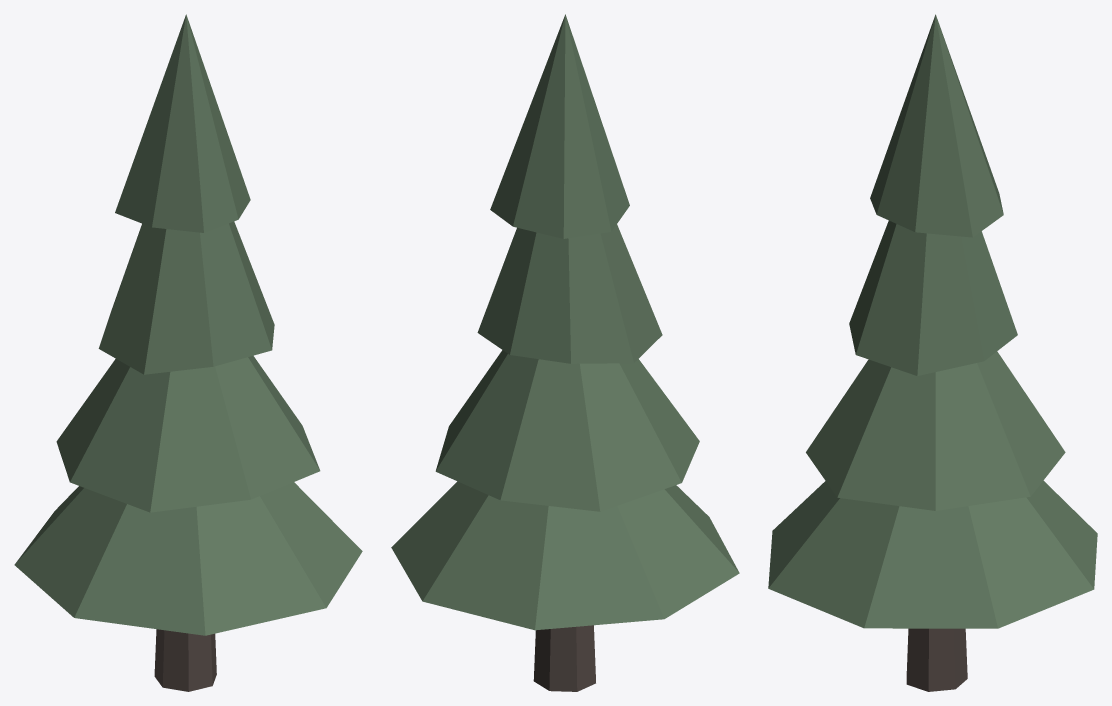
File: Tree.glb
The picture shows the model from 3 angles, left to right: view 1: azimuth 30°, elevation 25°; view 2: azimuth 150°, elevation 25°; view 3: azimuth 270°, elevation 25°; orthographic projection.
Visible parts, largest first — view 1: Cone, Cylinder; view 2: Cone, Cylinder; view 3: Cone, Cylinder.
Boxes of the visible parts, bbox=[...] form: Cone: bbox=[14, 14, 362, 635]; Cylinder: bbox=[154, 629, 216, 691]; Cone: bbox=[391, 14, 739, 630]; Cylinder: bbox=[533, 625, 595, 691]; Cone: bbox=[768, 14, 1097, 628]; Cylinder: bbox=[906, 628, 967, 691].
Bounding box in the file's own units: 5.15 × 11.43 × 5.13.
